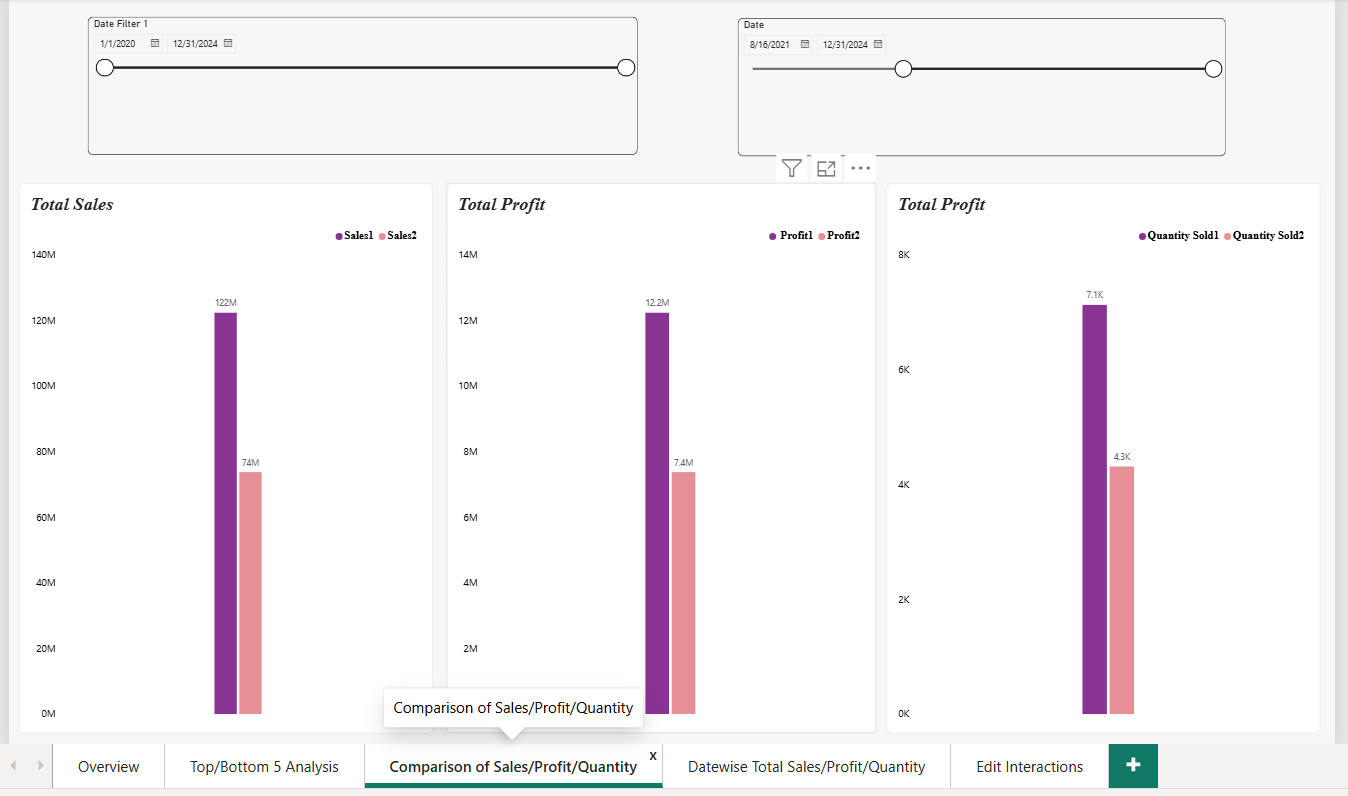

What the dashboard file says about the page in this screenshot:
{"tool":"powerbi","page":{"name":"Comparison of Sales/Profit/Quantity","canvas":[1920,1080],"ordinal":2},"visuals":[{"type":"slicer","fields":{"Values":["Date Table 1.Date"]},"box":[114,28,796,200],"z":0},{"type":"slicer","fields":{"Values":["Date Table 2.Date"]},"box":[1055.9,28.8,706,199.7],"z":1000},{"type":"clusteredColumnChart","title":"Total Sales","fields":{"Y":["Sum(Fact Table.Net Sales )","Date Table 1.SUM of Net Sales"]},"box":[14.4,267.6,599,796.6],"z":2000},{"type":"clusteredColumnChart","title":"Total Profit","fields":{"Y":["Sum(Fact Table.Profit)","Measures Table.Total Profit"]},"box":[634,267.6,621.6,796.6],"z":3000},{"type":"clusteredColumnChart","title":"Total Profit","fields":{"Y":["Sum(Fact Table.Units Sold)","Measures Table.Quantity Sold"]},"box":[1270,267.6,627.8,796.6],"z":4000}]}

Visuals, with their boxes on the page's 1920x1080 design canvas (x1, y1, x2, y2). These are canvas units, not pixel positions in the 1348x796 screenshot, which may show the page scaled, cropped or inside an application window:
slicer - Date Table 1.Date: bbox=(114, 28, 910, 228)
slicer - Date Table 2.Date: bbox=(1056, 29, 1762, 228)
"Total Sales" clusteredColumnChart: bbox=(14, 268, 613, 1064)
"Total Profit" clusteredColumnChart: bbox=(634, 268, 1256, 1064)
"Total Profit" clusteredColumnChart: bbox=(1270, 268, 1898, 1064)
